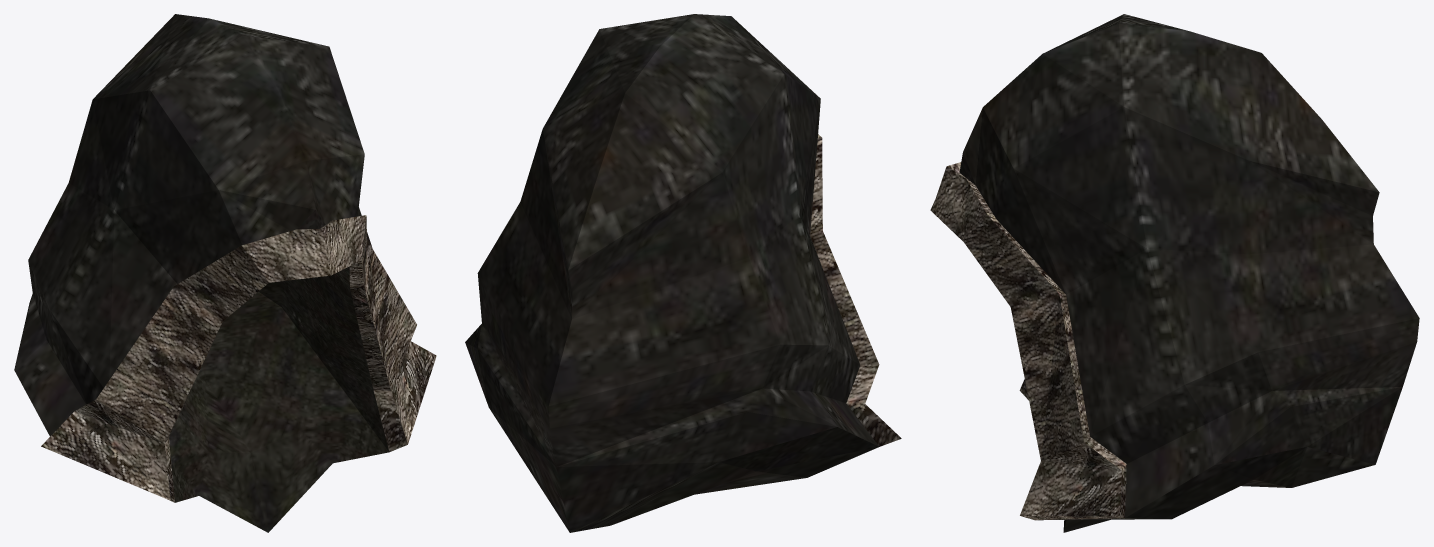
File: SYN_HOOD_01.glb
The picture shows the model from 3 angles, left to right: view 1: azimuth 30°, elevation 25°; view 2: azimuth 150°, elevation 25°; view 3: azimuth 270°, elevation 25°; orthographic projection. The views are drawn at different scales.
Parts seen in each view (by area): view 1: SYN_HOOD_01; view 2: SYN_HOOD_01; view 3: SYN_HOOD_01.
Boxes of the visible parts, x1,y1,x2,y2 form: SYN_HOOD_01: (14,14,436,532); SYN_HOOD_01: (465,14,901,532); SYN_HOOD_01: (930,14,1419,532).
Size of the model in its own units: 0.3559 by 0.4106 by 0.3575.
1 material, 1 textured.
